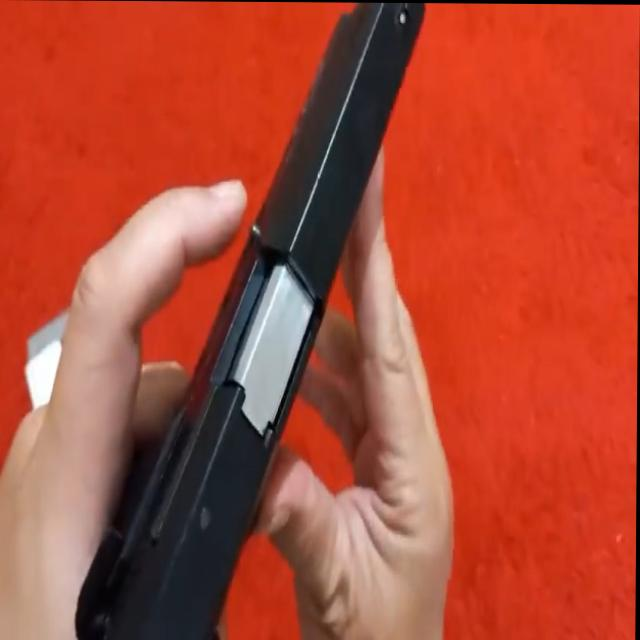handgun: (89, 1, 427, 640)
